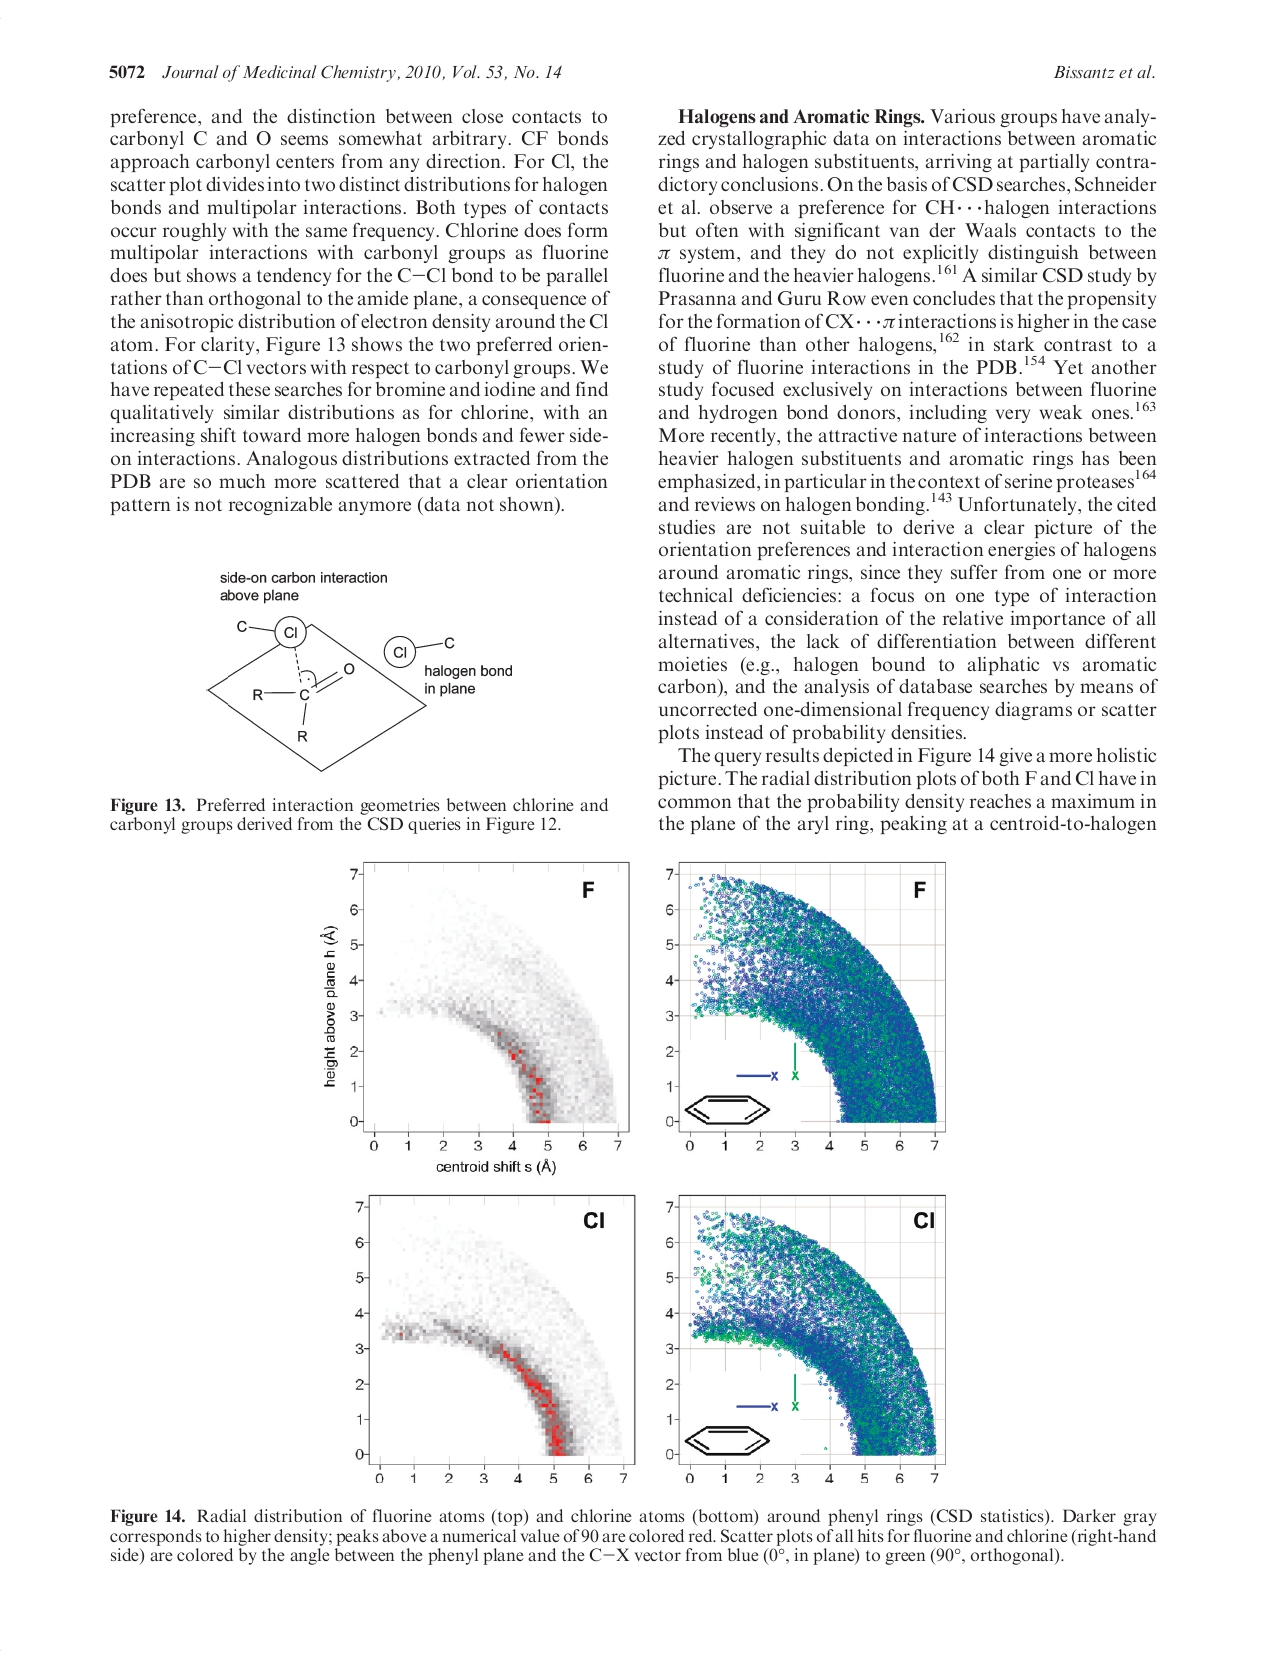exist_molecular: (225, 610, 457, 750), (680, 1088, 777, 1134), (677, 1415, 773, 1458)
